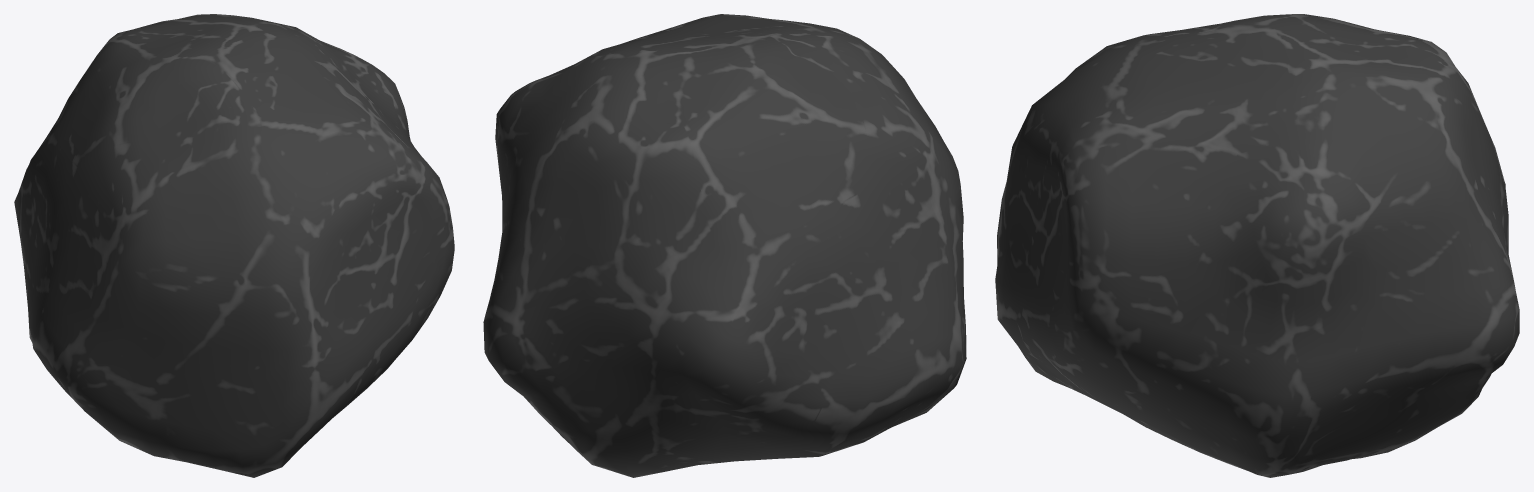
Rendered from Rock_3_Low.fbx.
3 renders of one model, left to right at view 1: azimuth 30°, elevation 25°; view 2: azimuth 150°, elevation 25°; view 3: azimuth 270°, elevation 25°, orthographic. The views are drawn at different scales.
Parts seen in each view (by area): view 1: Rock_3_Low; view 2: Rock_3_Low; view 3: Rock_3_Low.
Boxes of the visible parts, left/top/right/bottom form: Rock_3_Low: left=14, top=14, right=454, bottom=477; Rock_3_Low: left=483, top=14, right=966, bottom=477; Rock_3_Low: left=995, top=14, right=1519, bottom=477.
Bounding box in the file's own units: 178 × 161 × 193.
Materials: 1 (1 with a texture image).
